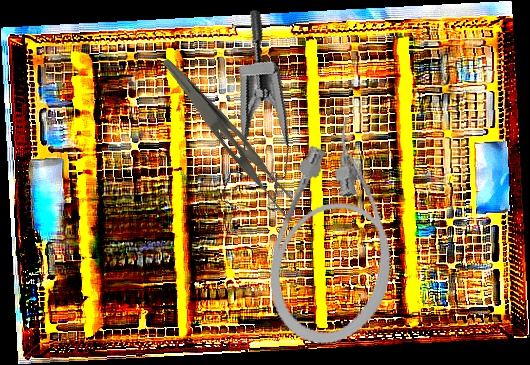Cannula: (254, 107, 423, 357)
Dressing Forceps: (145, 56, 308, 222)
Speculum: (168, 7, 322, 229)
